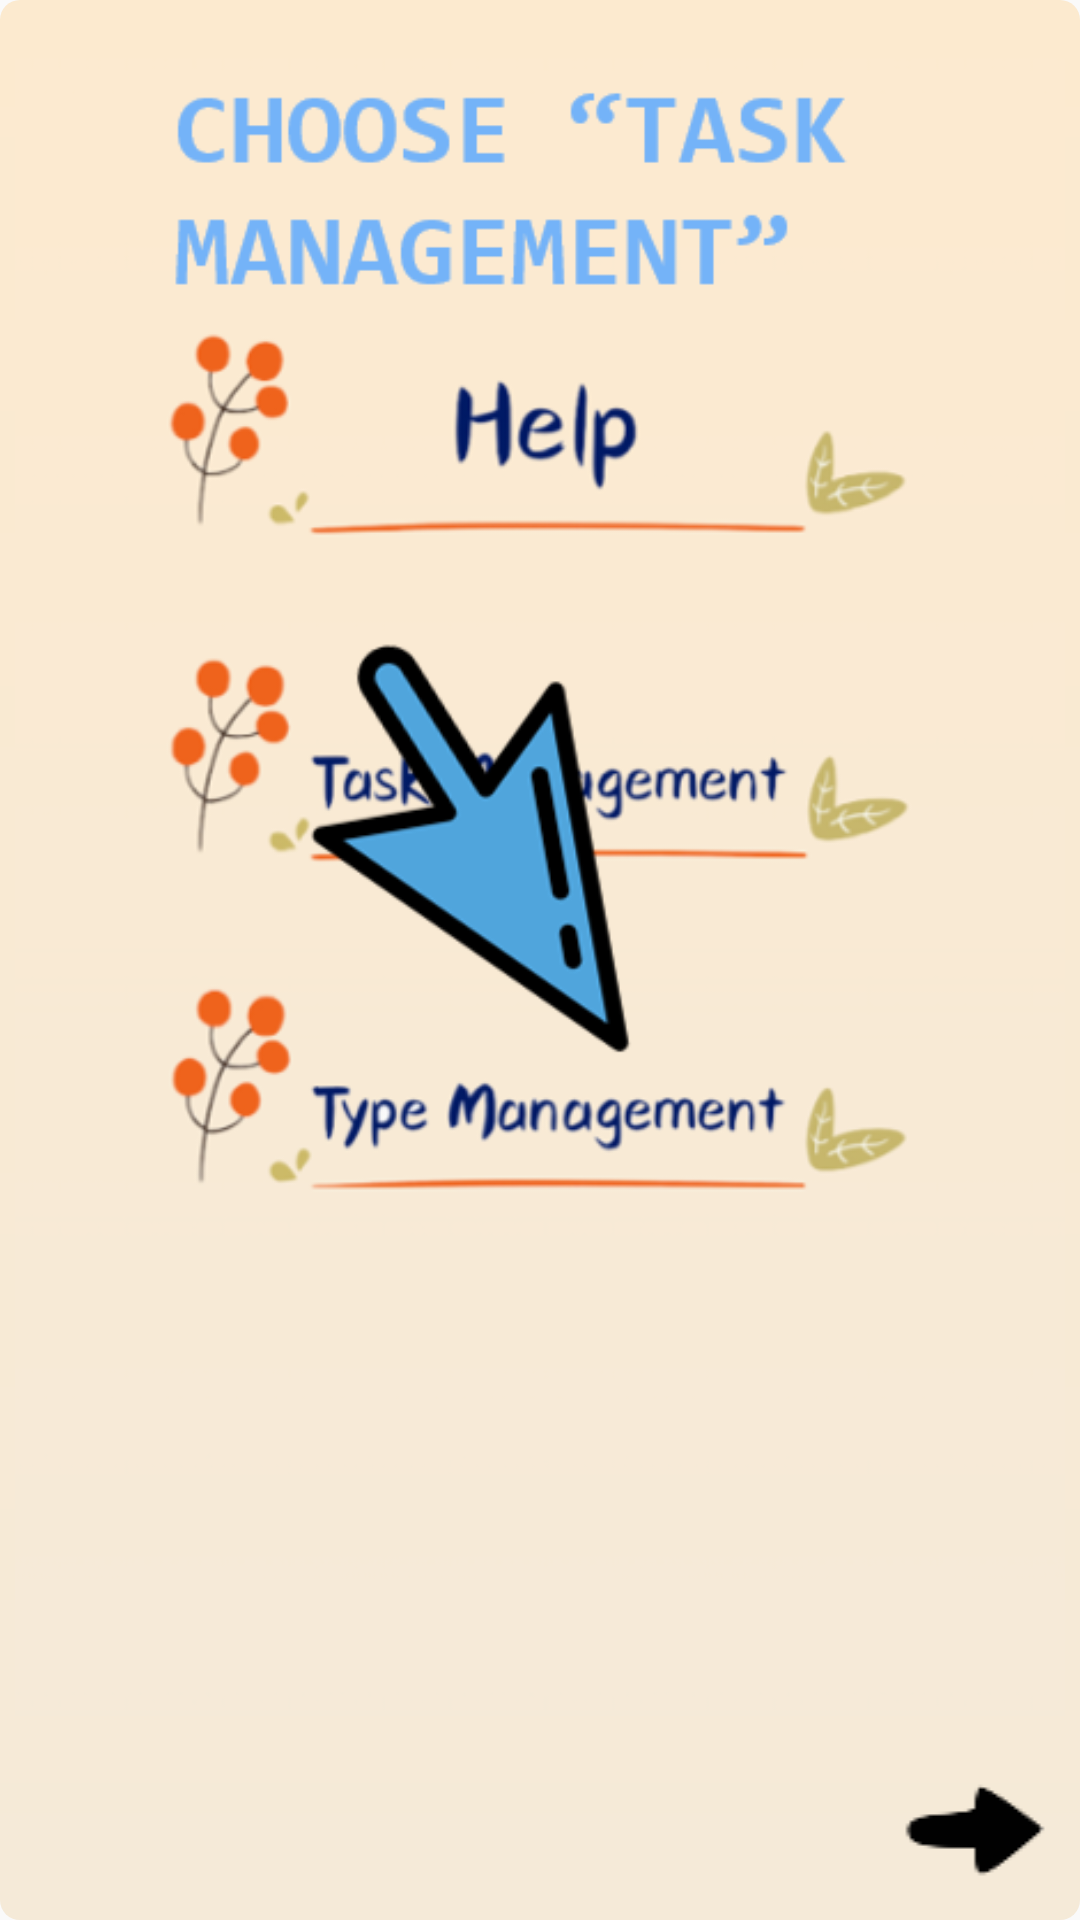

Where icons sit on this 1080*1920 app screen, as region(x1, y1, x2, y2):
arrowright: region(905, 1786, 1044, 1875)
